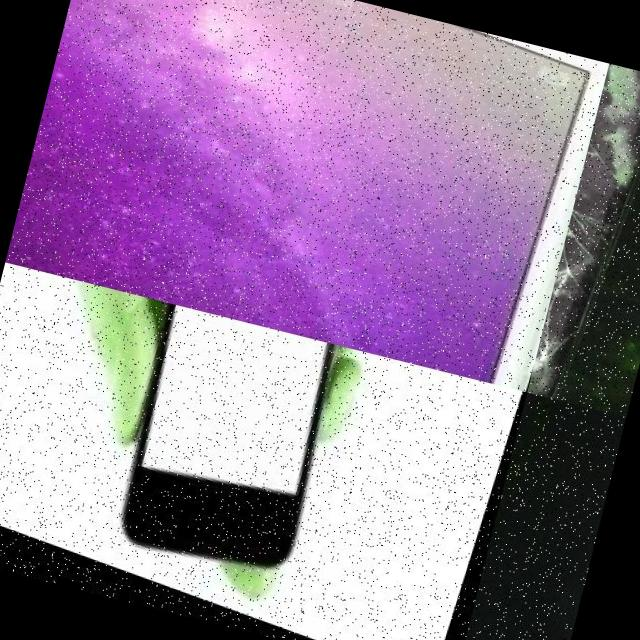screen crack: (527, 62, 640, 413)
